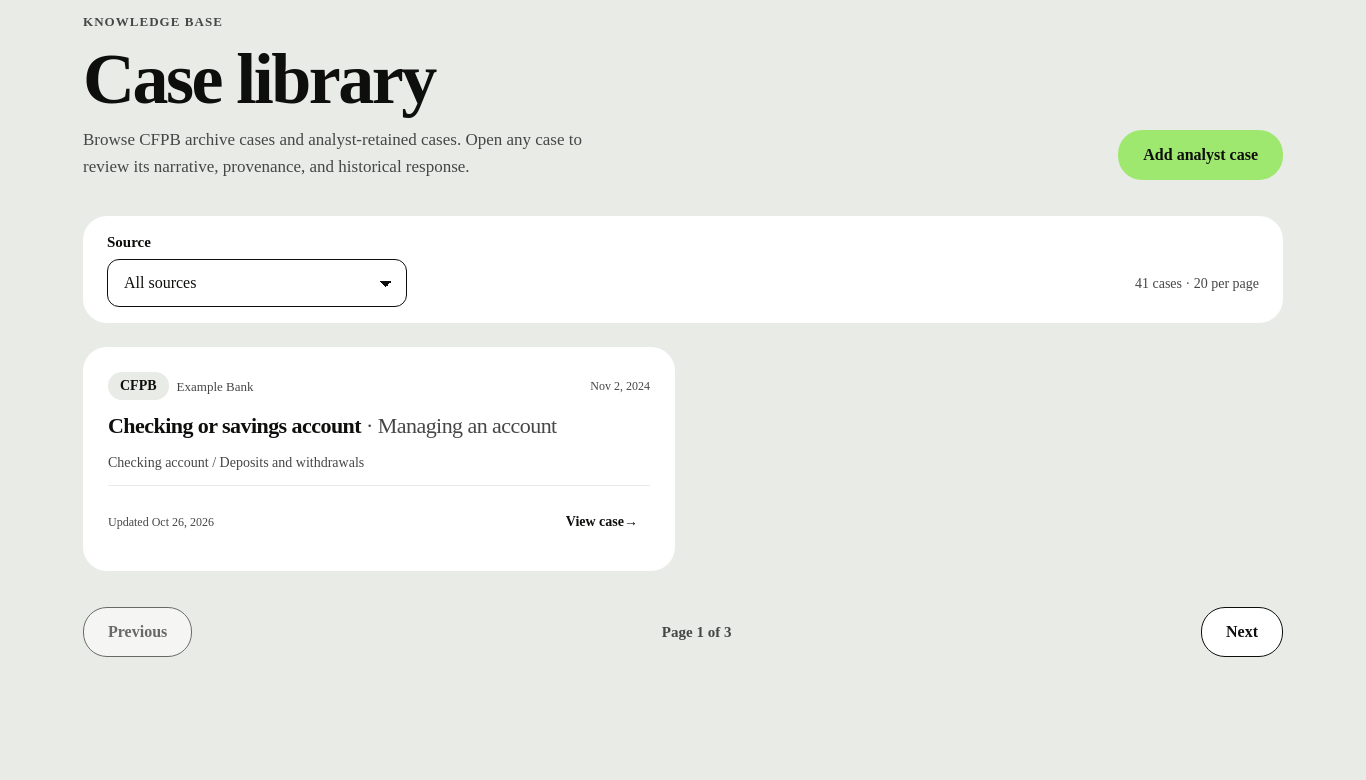
Test: case library › requests 20 cases with the selected source and paginates
Expected: the link "Checking or savings account" is shown, x1=108 y1=413 x2=361 y2=438
Expected: the text "41 cases · 20 per page" is shown, x1=1135 y1=276 x2=1259 y2=291
Step 1. Select "CFPB archive" in the dropdown labelled "Source" → (257, 283), box x1=107 y1=259 x2=407 y2=307
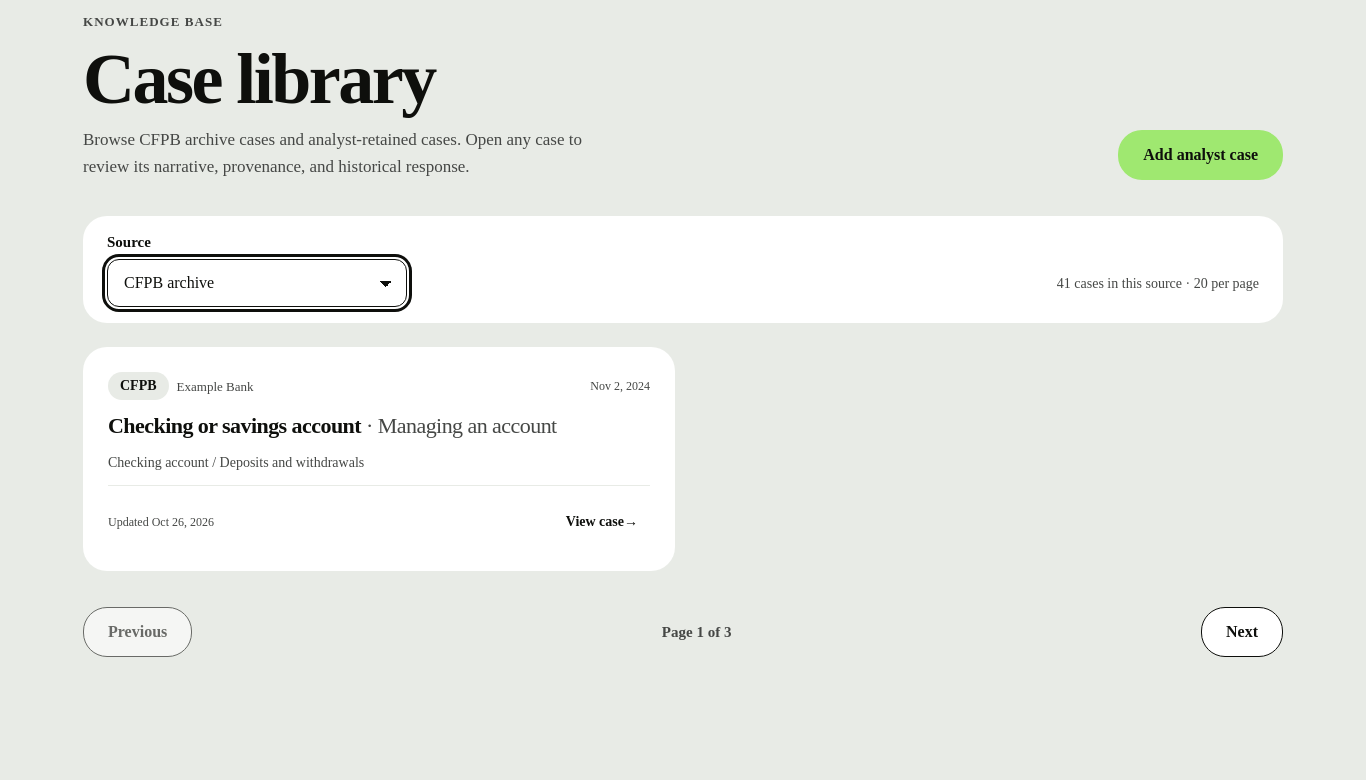
Step 2. Click the button "Next" → (1242, 632), box x1=1201 y1=607 x2=1283 y2=657
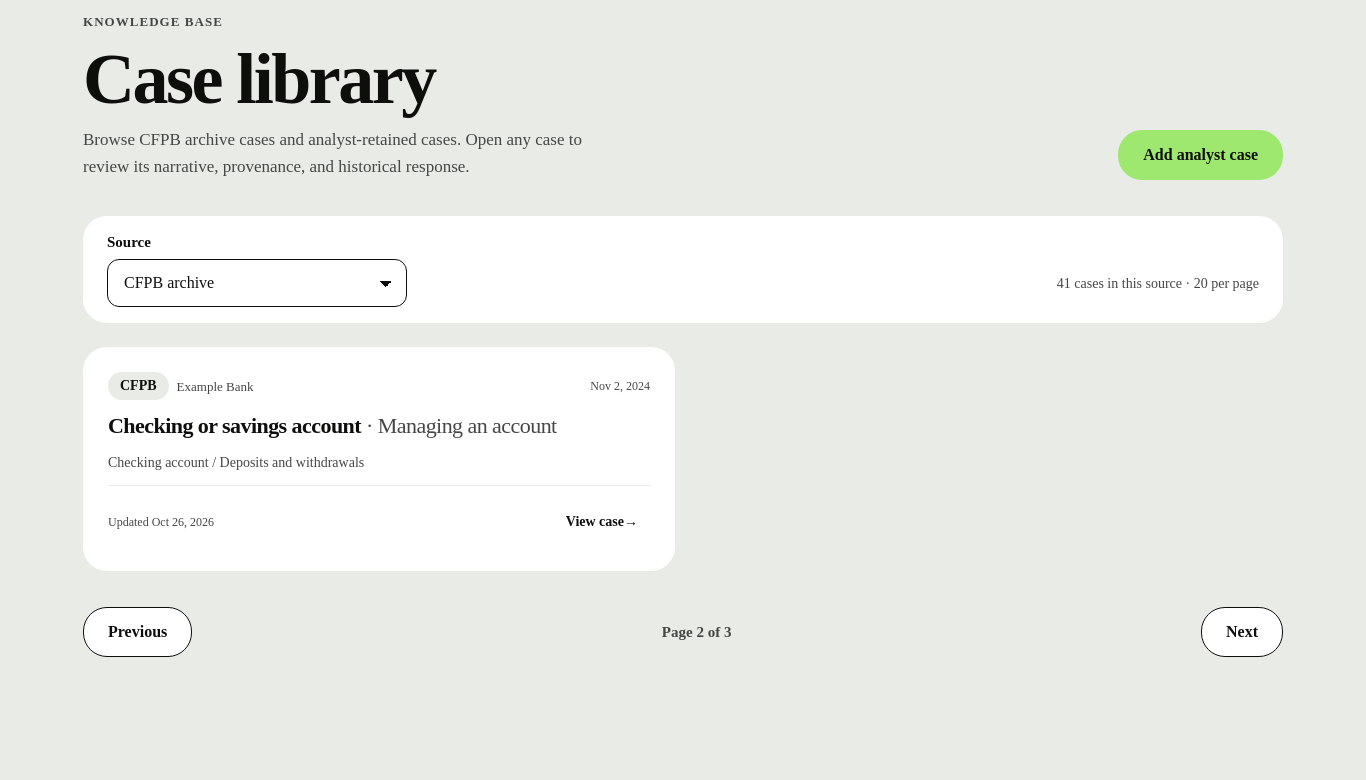
Result: the text "Page 2 of 3" is shown at x1=662 y1=621 x2=731 y2=643
Result: the button "Previous" is enabled at x1=83 y1=607 x2=192 y2=657
